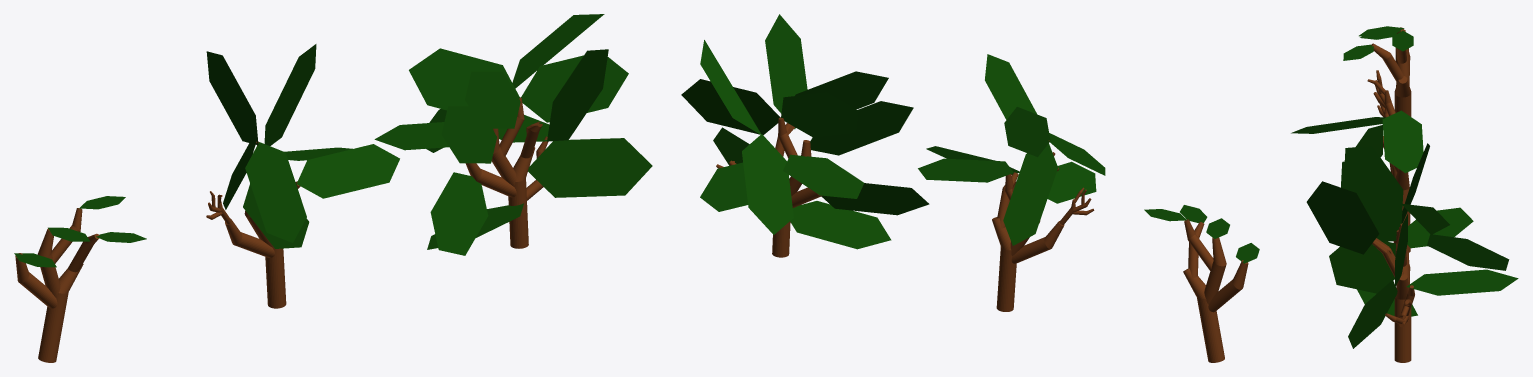
The model's file is Triplantas.fbx.
The picture shows the model from 3 angles, left to right: view 1: azimuth 30°, elevation 25°; view 2: azimuth 150°, elevation 25°; view 3: azimuth 270°, elevation 25°; orthographic projection. The views are drawn at different scales.
Visible parts, largest first — view 1: Planta.002, Planta.001, Planta; view 2: Planta.002, Planta.001, Planta; view 3: Planta.002, Planta.001, Planta.
Part boxes in pixels (x1,y1,x2,y2): Planta.002: (374, 14, 652, 255); Planta.001: (206, 44, 399, 308); Planta: (14, 196, 146, 362); Planta.002: (681, 14, 929, 257); Planta.001: (918, 54, 1105, 311); Planta: (1144, 205, 1259, 362); Planta.002: (1306, 143, 1518, 362); Planta.001: (1291, 70, 1423, 252); Planta: (1343, 26, 1413, 116).
Size of the model in its own units: 669 by 272 by 236.
